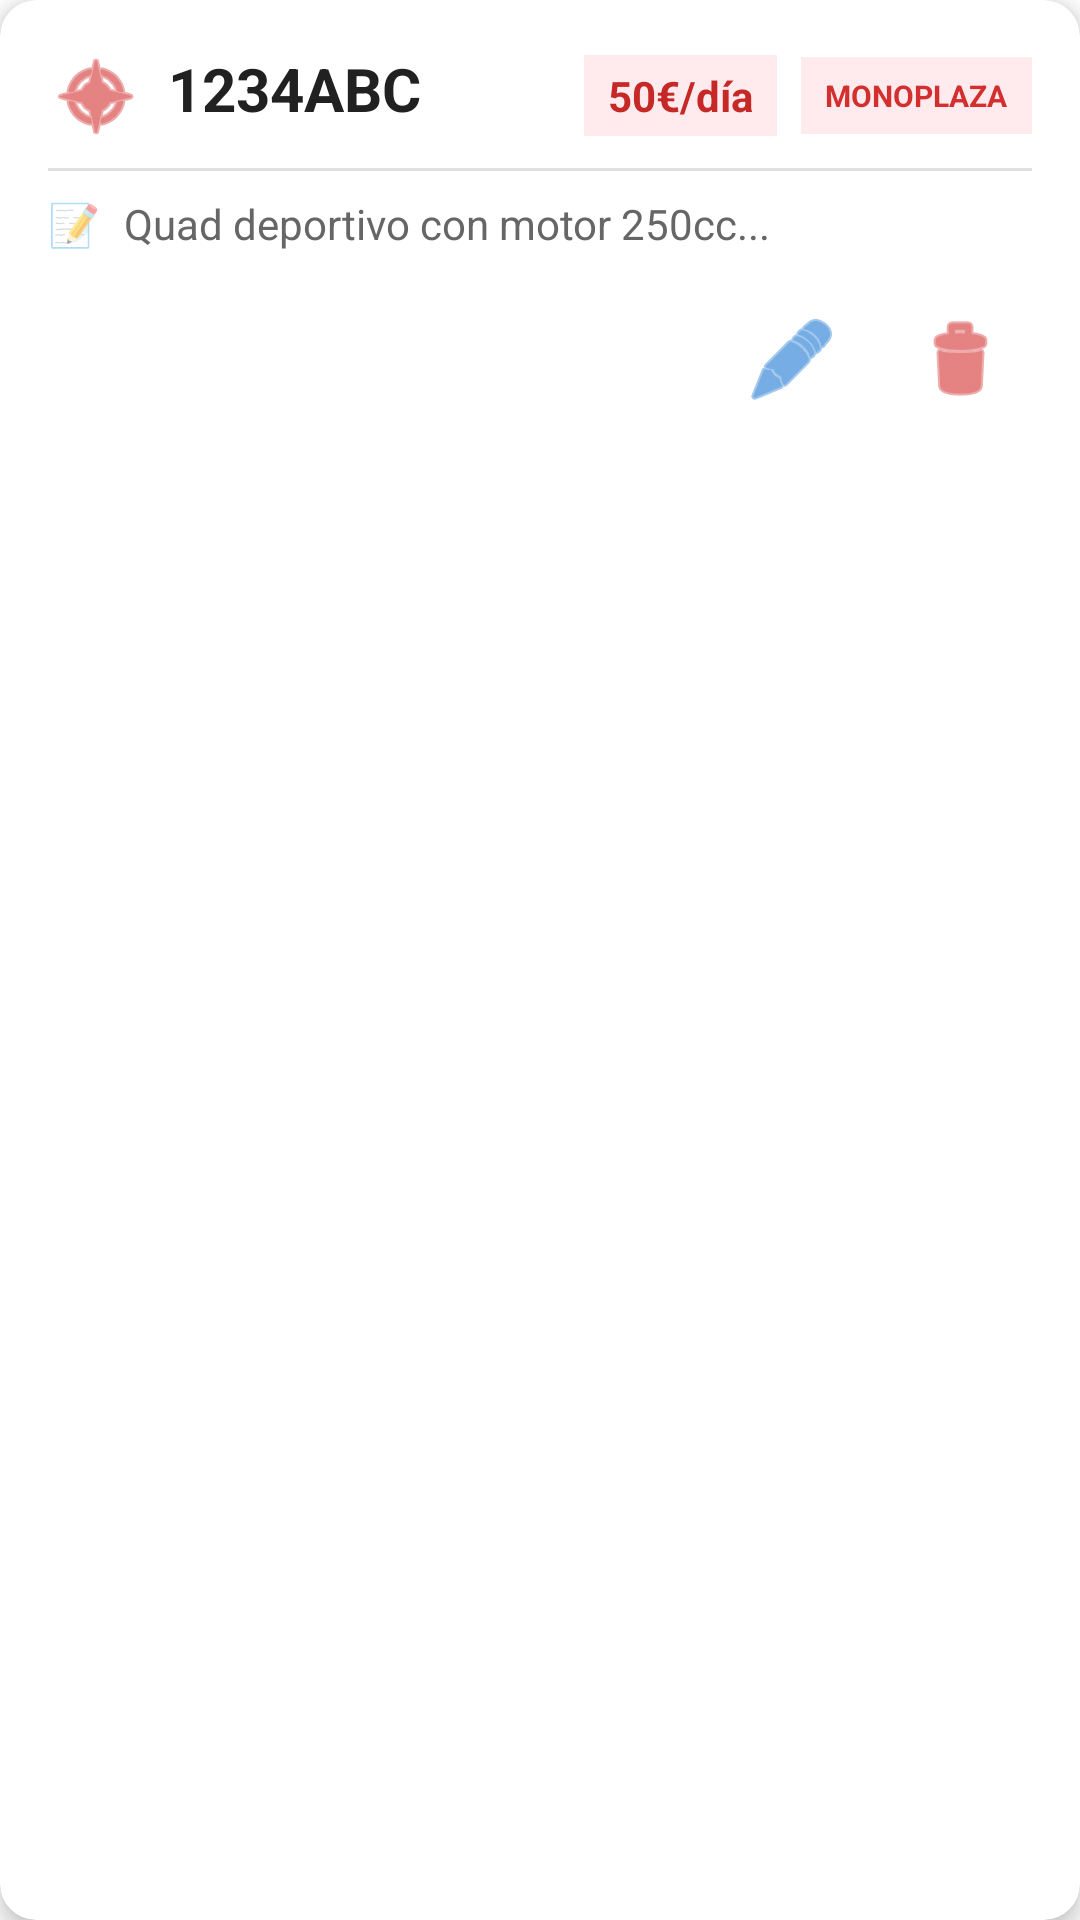

Icon click points for this 1080 × 1920 phone screenshot, format point (x, y):
Borrar: point (960, 358)
Editar: point (791, 359)
